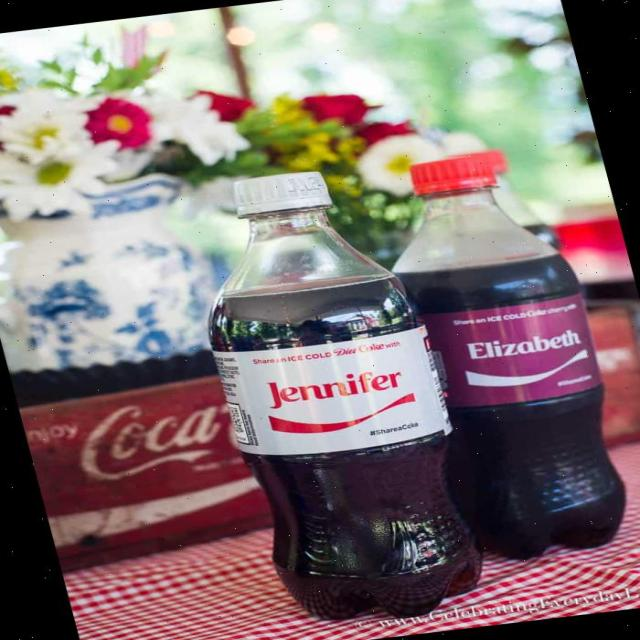coca-cola: (168, 154, 499, 632), (358, 140, 640, 569)
